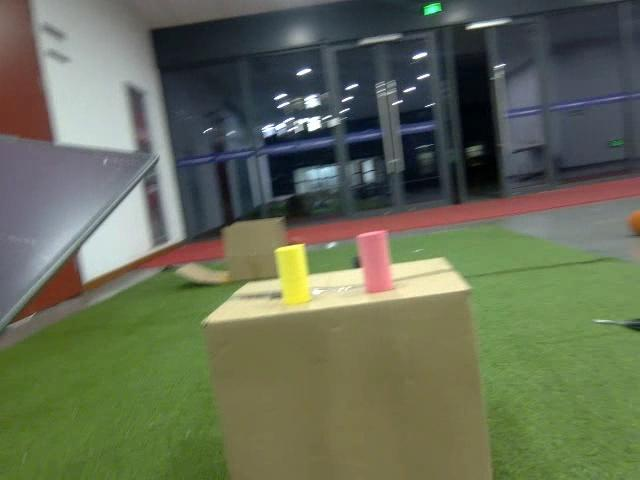red_cylinder: (356, 227, 396, 294)
yellow_cylinder: (272, 242, 314, 307)
